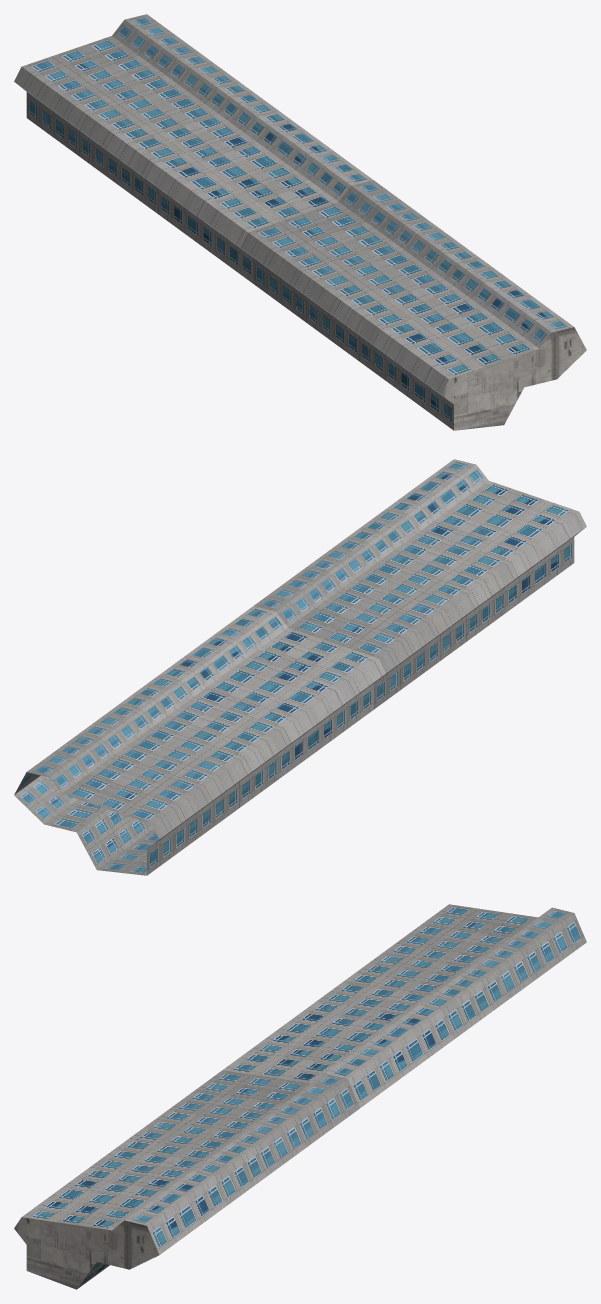
File: building-0.obj
The picture shows the model from 3 angles, top to bottom: view 1: azimuth 30°, elevation 25°; view 2: azimuth 150°, elevation 25°; view 3: azimuth 330°, elevation 25°; orthographic projection.
Size of the model in its own units: 17.41 by 9.25 by 88.56.
